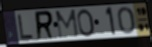1: (105, 6, 118, 37)
L: (16, 13, 35, 41)
M: (55, 8, 80, 40)
O: (76, 8, 97, 38), (116, 6, 136, 36)
R: (34, 10, 55, 42)
